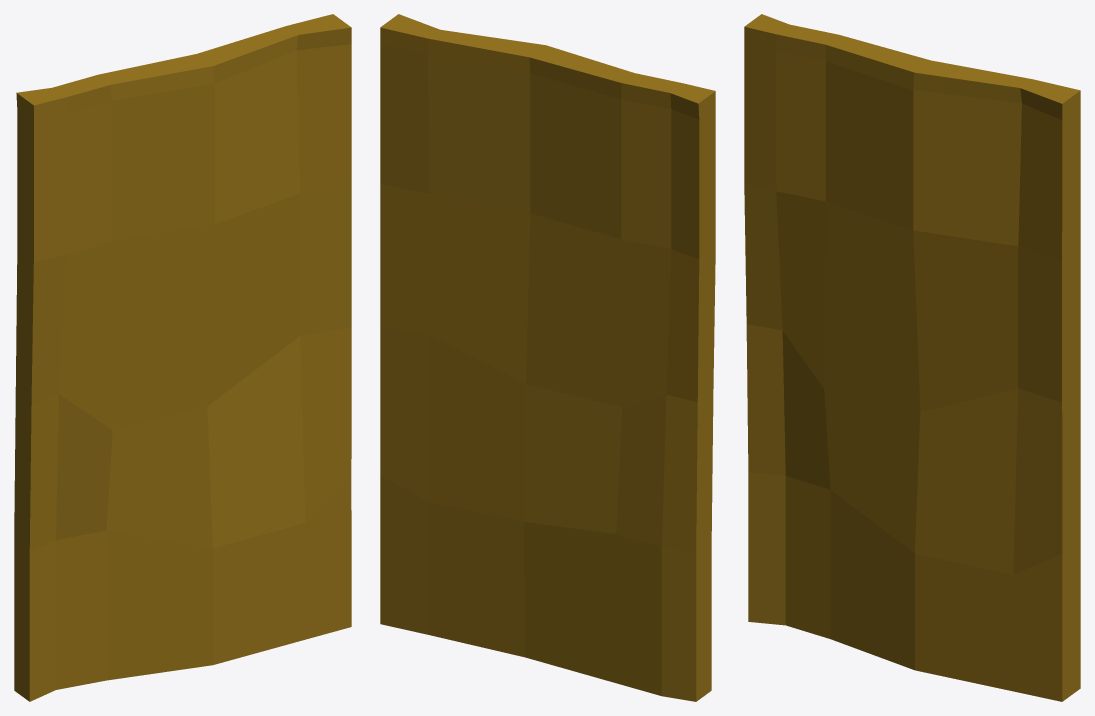
Rendered from porta.fbx.
The picture shows the model from 3 angles, left to right: view 1: azimuth 30°, elevation 25°; view 2: azimuth 150°, elevation 25°; view 3: azimuth 330°, elevation 25°; orthographic projection.
Parts seen in each view (by area): view 1: porta; view 2: porta; view 3: porta.
Part boxes in pixels (x1,y1,x2,y2): porta: (14,14,351,701); porta: (380,14,715,701); porta: (744,14,1080,701).
Bounding box in the file's own units: 2000 × 3600 × 305.
